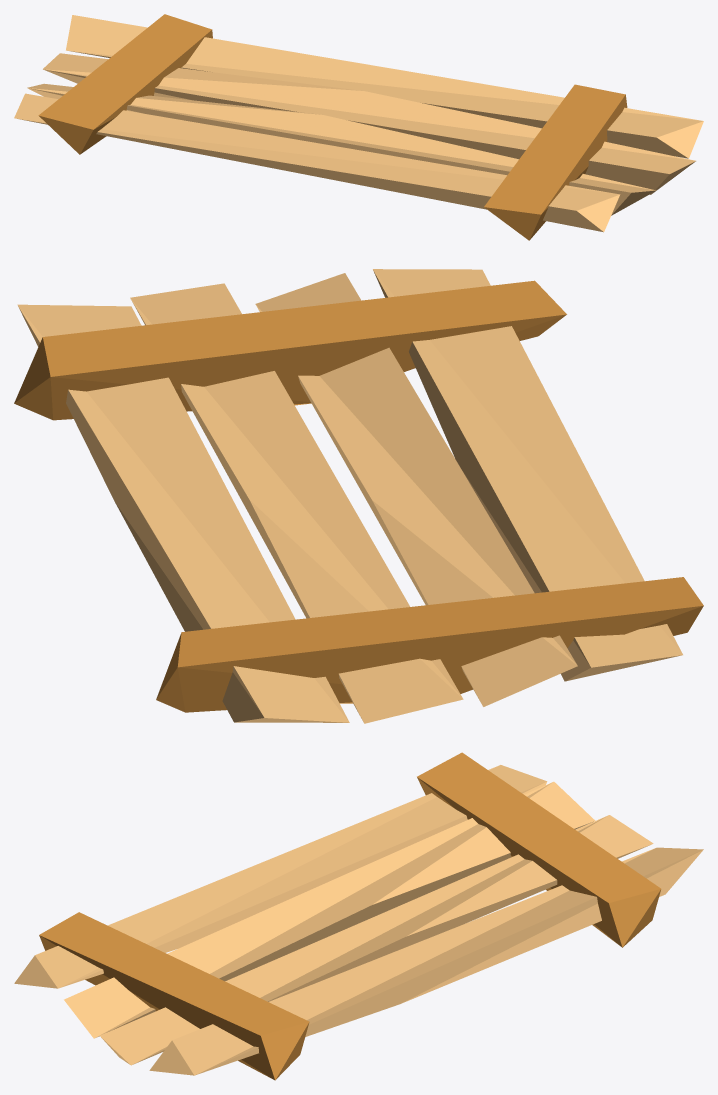
The picture shows the model from 3 angles, top to bottom: view 1: azimuth 30°, elevation 25°; view 2: azimuth 150°, elevation 25°; view 3: azimuth 270°, elevation 25°; orthographic projection. The views are drawn at different scales.
Parts seen in each view (by area): view 1: group_1774239323; view 2: group_1774239323; view 3: group_1774239323.
Boxes of the visible parts, x1,y1,x2,y2 form: group_1774239323: (14, 14, 703, 240); group_1774239323: (14, 269, 703, 723); group_1774239323: (14, 752, 703, 1080).
Bounding box in the file's own units: 15.62 × 1.92 × 16.27.
